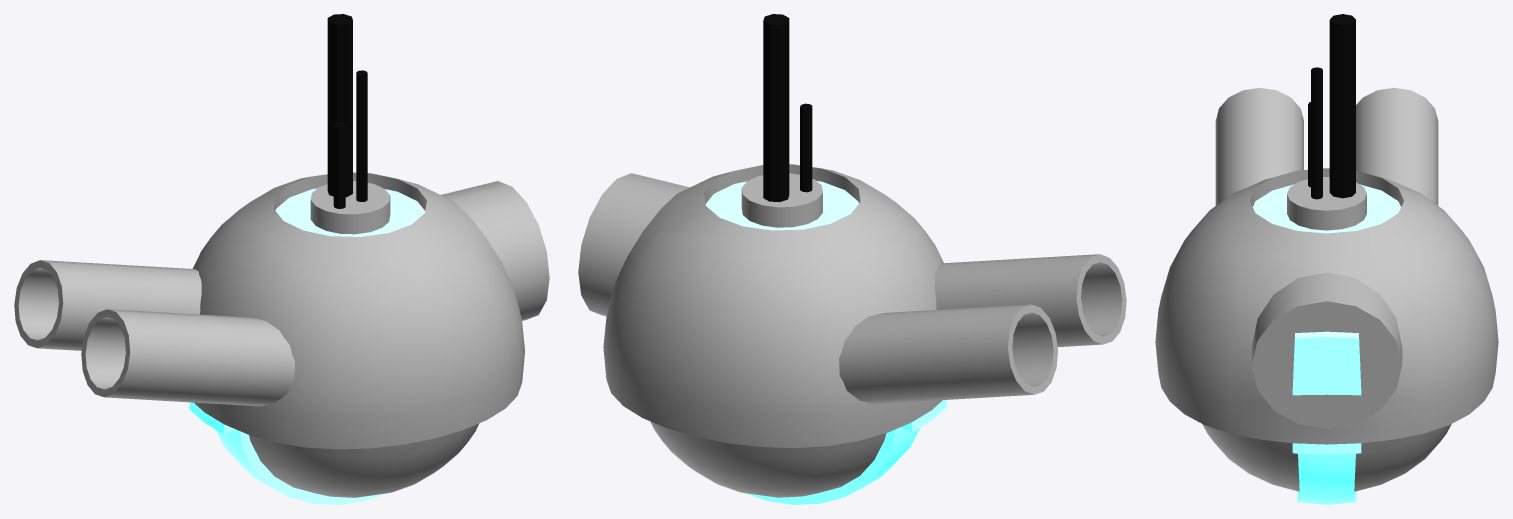
Rendered from Normal Turret.fbx.
3 views of the same model, side by side, from view 1: azimuth 30°, elevation 25°; view 2: azimuth 150°, elevation 25°; view 3: azimuth 270°, elevation 25° (orthographic). The views are drawn at different scales.
Parts seen in each view (by area): view 1: normal turrent; view 2: normal turrent; view 3: normal turrent.
Boxes of the visible parts, <box> form: normal turrent: <box>14,14,549,504</box>; normal turrent: <box>578,14,1126,504</box>; normal turrent: <box>1155,14,1498,504</box>.
Bounding box in the file's own units: 23.32 × 15 × 22.58.
